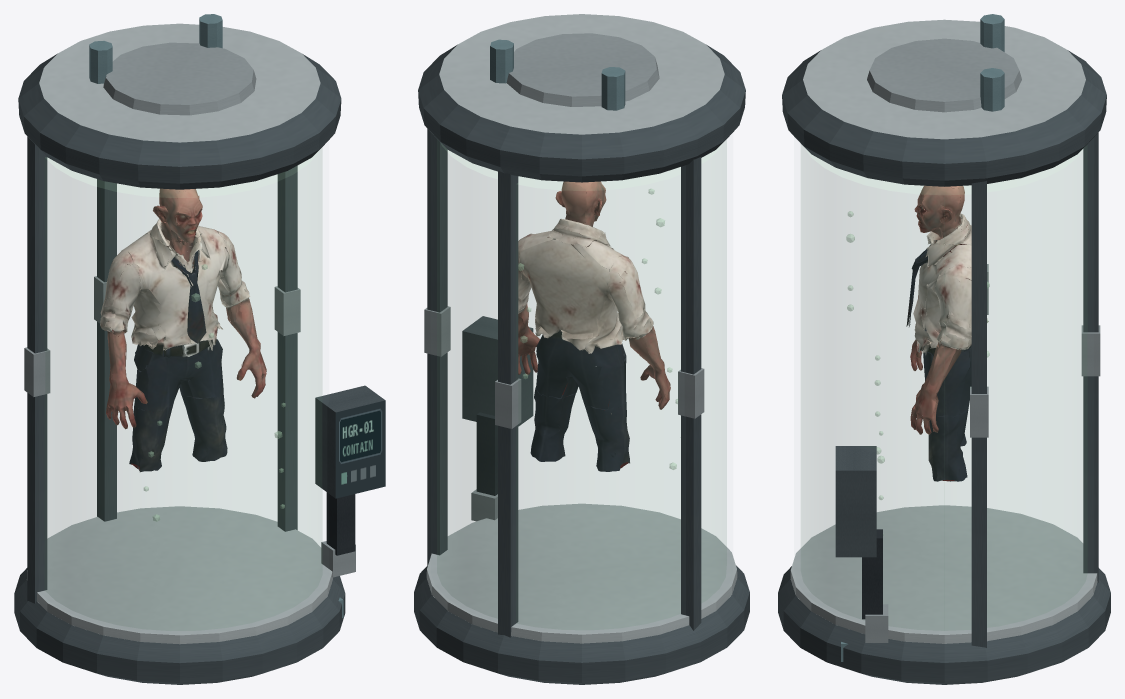
The model's file is Containment_Tank_hunger.glb.
3 views of the same model, side by side, from view 1: azimuth 30°, elevation 25°; view 2: azimuth 150°, elevation 25°; view 3: azimuth 270°, elevation 25° (orthographic).
Visible parts, largest first — view 1: Tank_Glass; view 2: Tank_Glass; view 3: Tank_Glass.
Boxes of the visible parts, <box> form: Tank_Glass: <box>14,14,385,684</box>; Tank_Glass: <box>414,14,749,684</box>; Tank_Glass: <box>778,14,1110,684</box>.
Bounding box in the file's own units: 1.57 × 2.92 × 1.52.
7 materials, 3 textured.
